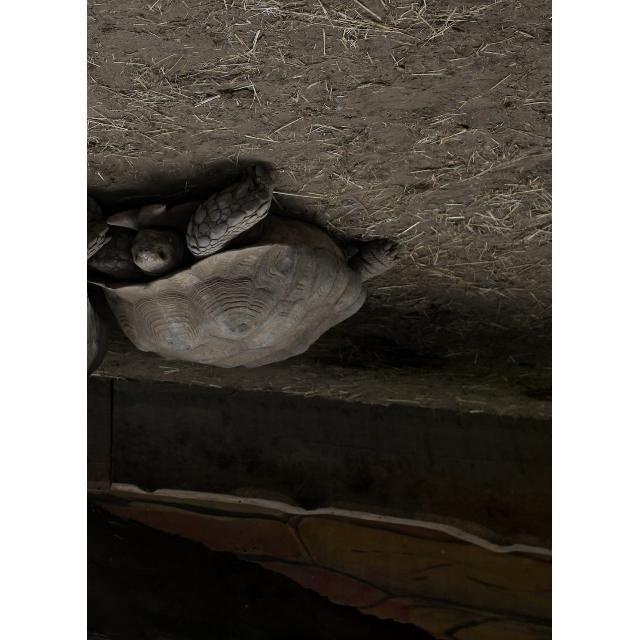turtle: (90, 162, 403, 371)
